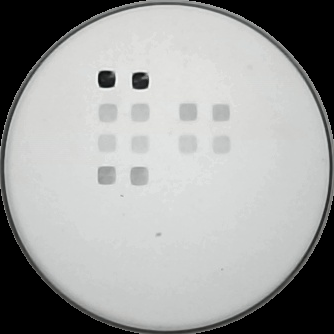检查点: (176, 132, 201, 157), (128, 133, 155, 156), (94, 132, 120, 155), (211, 131, 233, 157), (94, 165, 119, 187), (210, 102, 233, 124), (130, 164, 151, 188), (129, 103, 154, 123), (129, 70, 151, 92), (178, 101, 199, 124), (96, 69, 117, 90), (98, 103, 120, 123)
